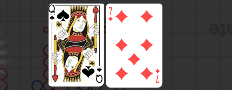7D: (108, 6, 114, 23)
